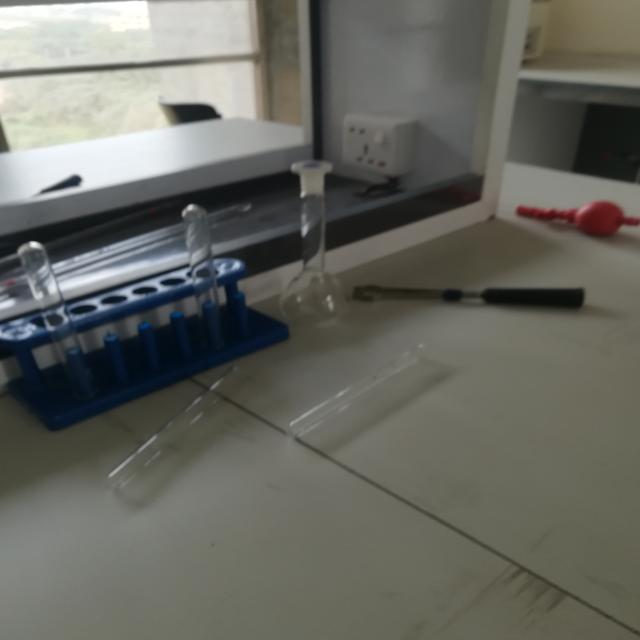Test_Tube: (87, 351, 250, 538), (277, 331, 467, 461), (11, 208, 131, 399), (160, 186, 239, 372)
Volumetric_Flask: (269, 142, 375, 331)
